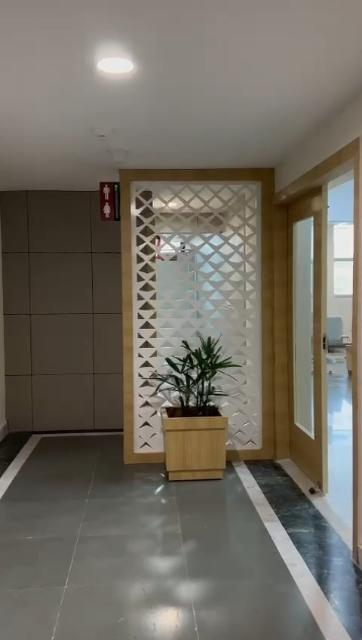door: (270, 211, 328, 484)
floor: (0, 427, 362, 640)
object: (153, 336, 237, 486)
